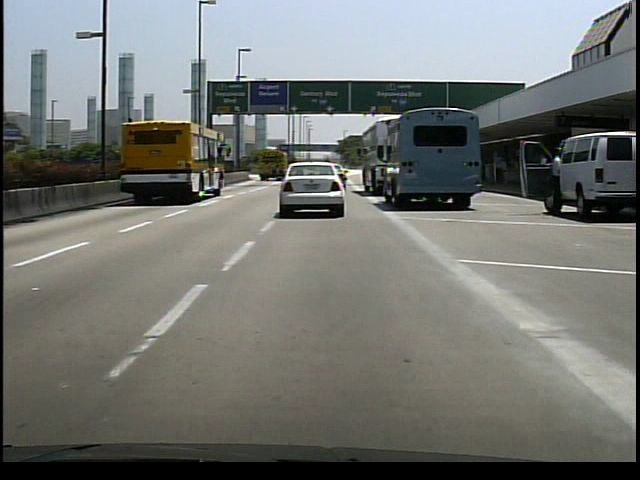person: (547, 139, 565, 221)
